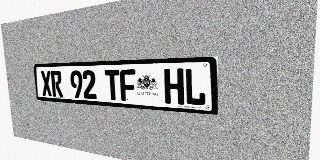2: (82, 70, 97, 99)
9: (70, 70, 84, 98)
F: (119, 69, 136, 102)
H: (164, 68, 184, 105)
L: (184, 68, 206, 106)
R: (50, 71, 63, 97)
T: (104, 69, 120, 101)
X: (40, 71, 52, 96)
